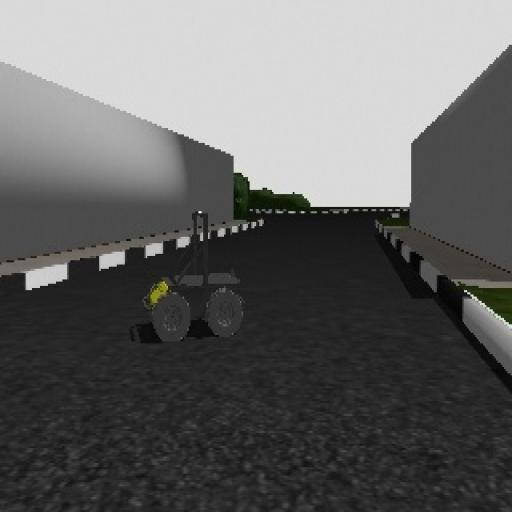huskya200: (128, 180, 249, 360)
